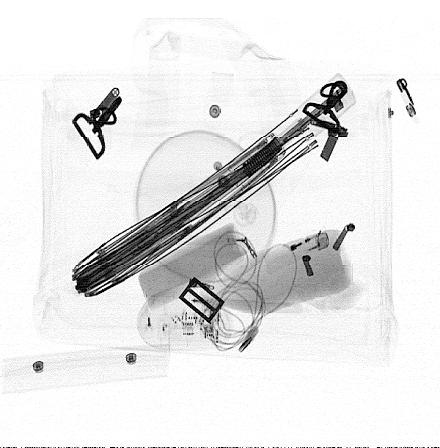Lighter: (264, 224, 330, 275)
